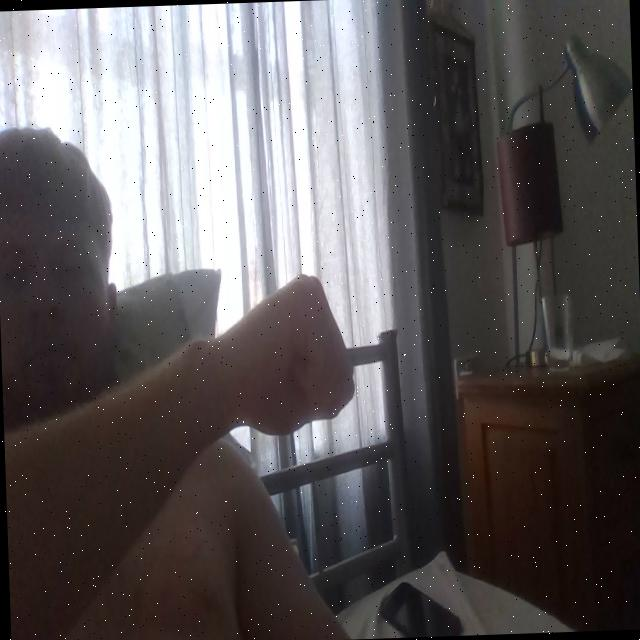rock: (214, 269, 359, 454)
